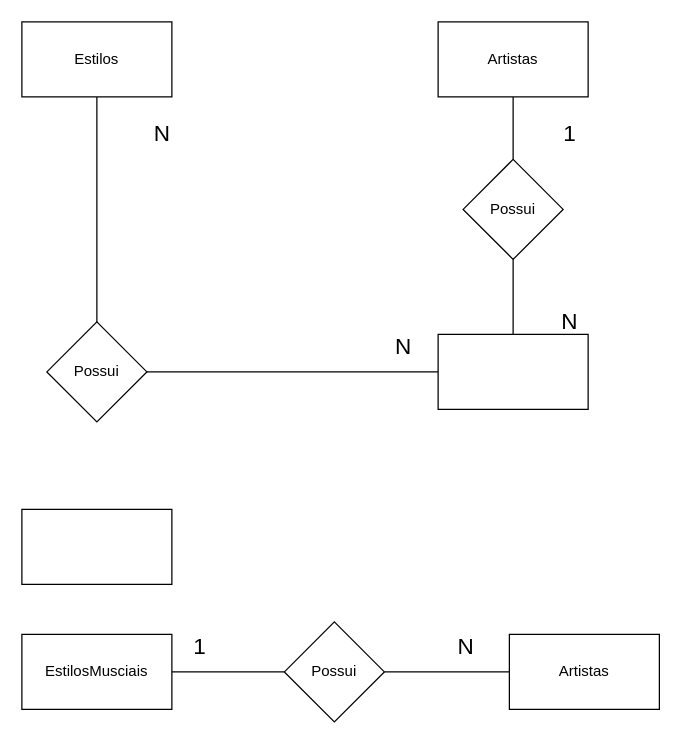
The diagram is 681 pixels wide and 744 high, and some of its shapes have lost their labels. The shapes that lost their labels are listed below. From the top down, each one's centre as x and y in pixels, then its label:
At (512,371): "Albuns".
At (96,546): "Usuarios".
